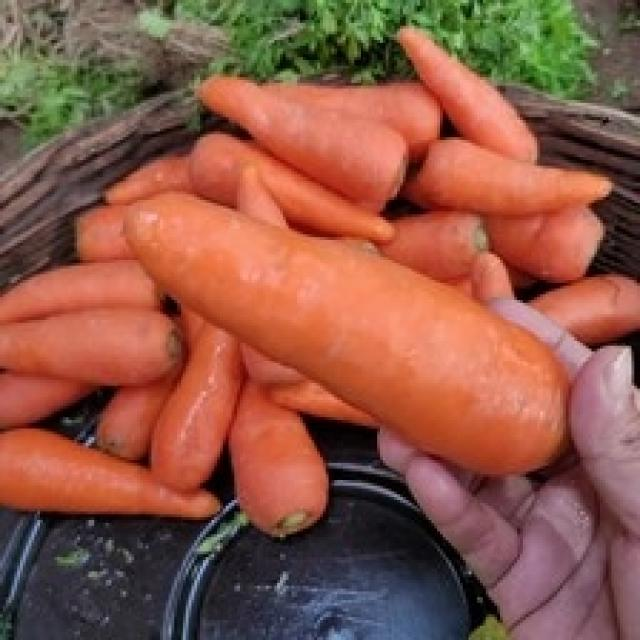carrot: (0, 26, 634, 529), (123, 191, 563, 469)
